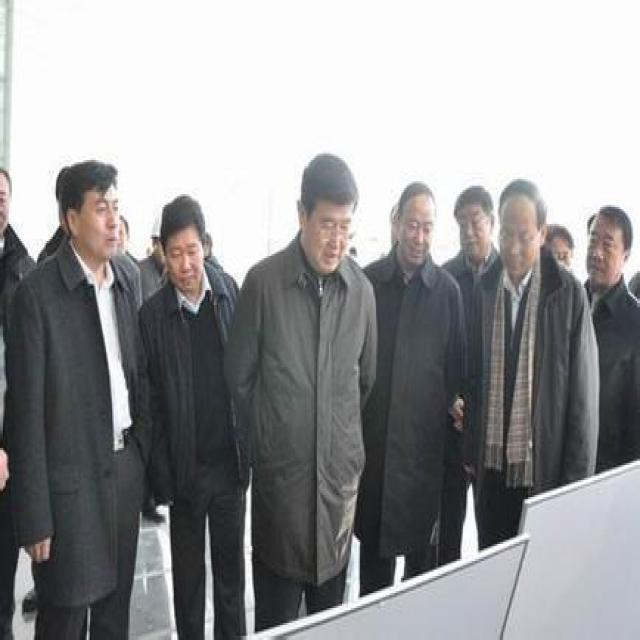no hat: (294, 142, 362, 278), (54, 154, 124, 262), (155, 188, 211, 298), (494, 174, 546, 280), (390, 175, 442, 271), (584, 198, 636, 290), (452, 179, 498, 267), (542, 222, 578, 280)
